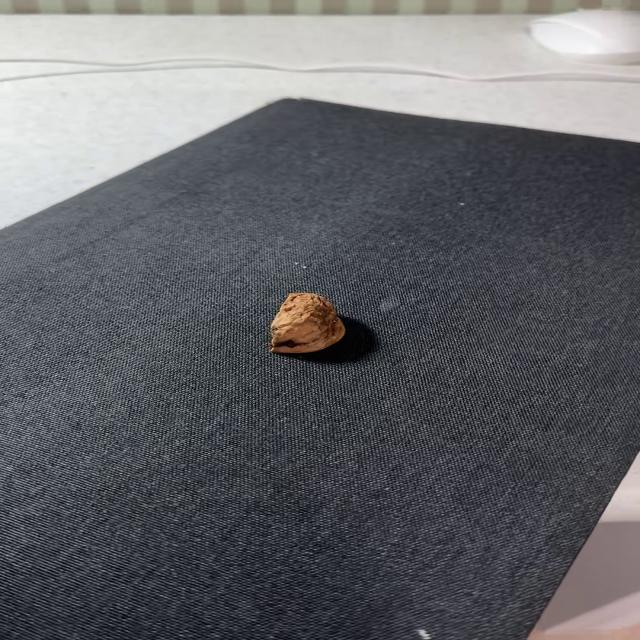nuts-bad0.25: (270, 293, 344, 354)
